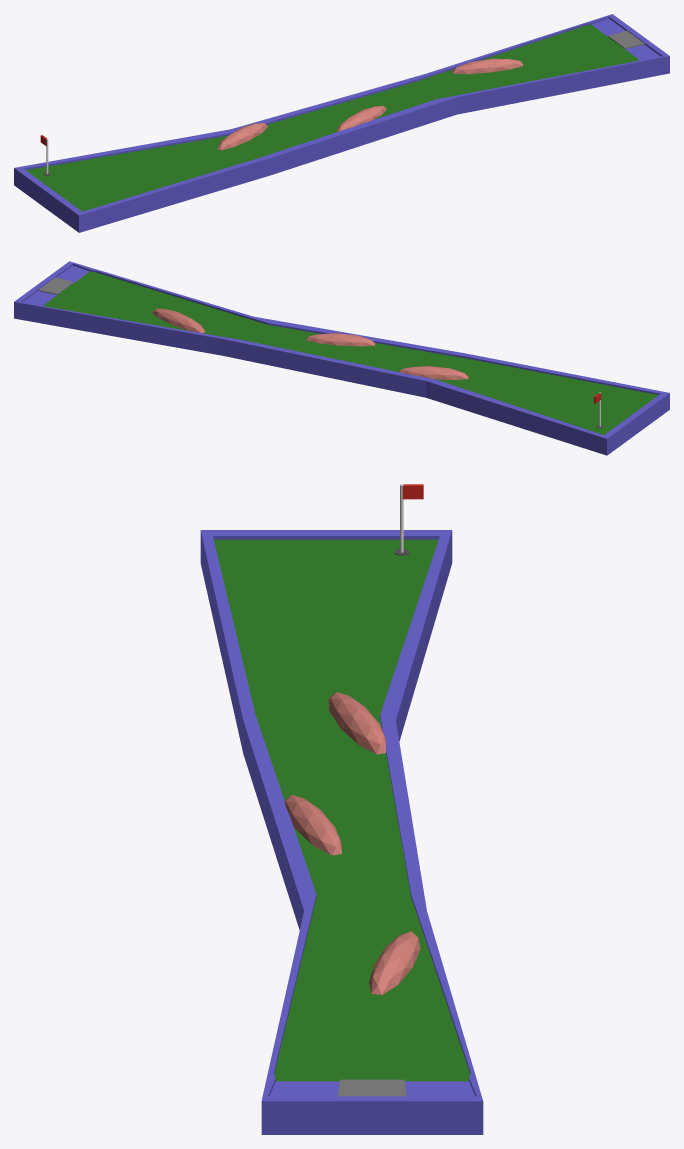
Rendered from MiniGolf2.fbx.
3 renders of one model, top to bottom at view 1: azimuth 30°, elevation 25°; view 2: azimuth 150°, elevation 25°; view 3: azimuth 270°, elevation 25°, orthographic. The views are drawn at different scales.
Parts seen in each view (by area): view 1: Cube, Icosphere, Icosphere.001, Icosphere.002; view 2: Cube, Icosphere.002, Icosphere.001, Icosphere; view 3: Cube, Icosphere.001, Icosphere, Icosphere.002.
Boxes of the visible parts, x1,y1,x2,y2 form: Cube: (14,14,669,232); Icosphere: (452,58,523,74); Icosphere.001: (217,123,267,150); Icosphere.002: (336,105,386,131); Cube: (14,261,669,455); Icosphere.002: (306,333,375,346); Icosphere.001: (399,366,468,379); Icosphere: (152,308,205,333); Cube: (200,530,483,1134); Icosphere.001: (328,692,385,754); Icosphere: (369,931,420,994); Icosphere.002: (285,795,341,855).
Size of the model in its own units: 1829 by 146 by 382.
